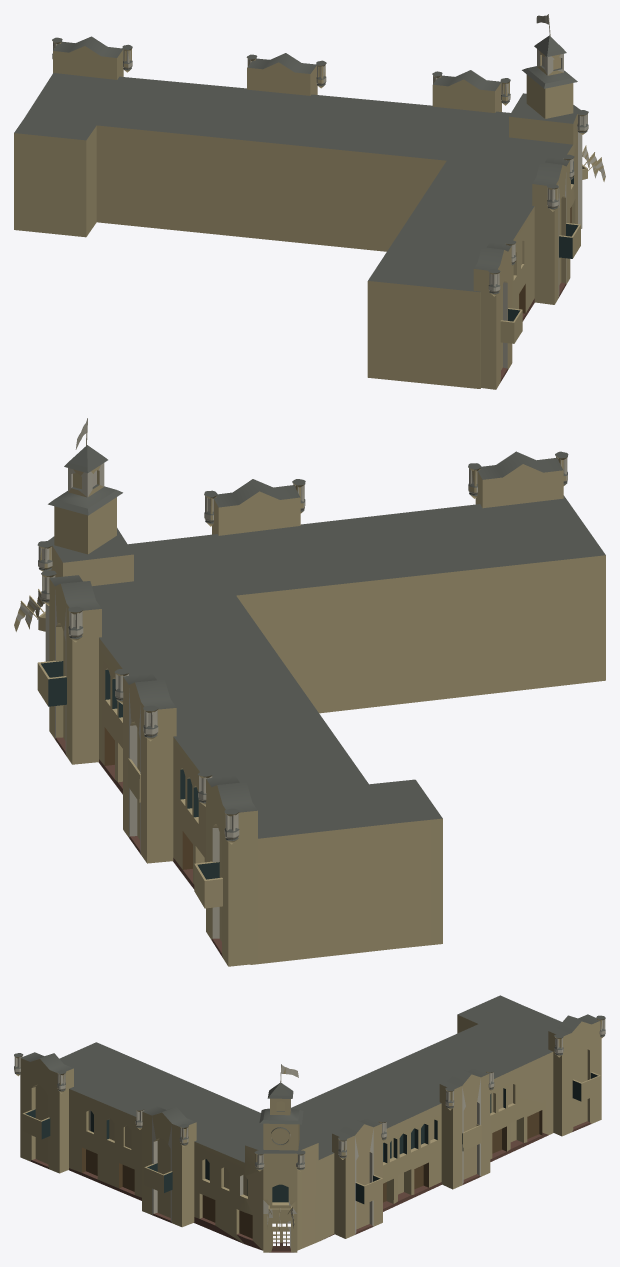
3 views of the same model, one above another, from view 1: azimuth 30°, elevation 25°; view 2: azimuth 150°, elevation 25°; view 3: azimuth 270°, elevation 25° (orthographic). The views are drawn at different scales.
Parts seen in each view (by area): view 1: pCylinder16:PIV; view 2: pCylinder16:PIV; view 3: pCylinder16:PIV.
Boxes of the visible parts, x1=… form: pCylinder16:PIV: x1=14, y1=14, x2=605, y2=389; pCylinder16:PIV: x1=14, y1=418, x2=605, y2=966; pCylinder16:PIV: x1=14, y1=995, x2=605, y2=1252.
Size of the model in its own units: 22.36 by 9.99 by 30.02.
